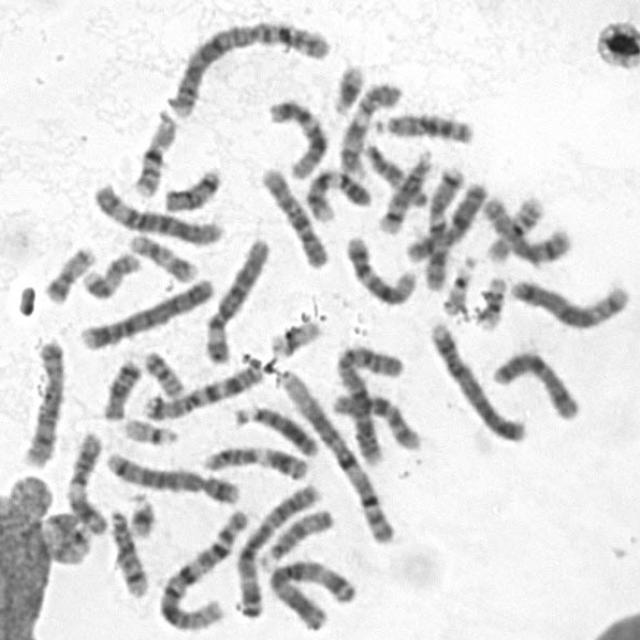A1: (270, 359, 396, 546), (150, 501, 252, 633)
A2: (161, 12, 333, 118), (328, 335, 408, 466)
A3: (228, 473, 325, 620), (260, 551, 359, 631)
B4: (423, 314, 529, 444), (73, 268, 217, 352)
B5: (99, 442, 242, 505), (504, 270, 632, 332)
C10: (252, 158, 331, 270), (326, 384, 426, 452)
C11: (60, 425, 111, 536), (196, 436, 312, 481)
C12: (338, 227, 420, 306), (261, 91, 331, 180)
C6: (86, 174, 226, 248), (198, 230, 272, 366)
C7: (137, 356, 266, 420), (418, 158, 467, 292)
C8: (15, 329, 68, 470), (477, 189, 573, 266)
C9: (332, 73, 406, 178), (298, 159, 372, 223)
D13: (229, 397, 322, 459), (366, 104, 477, 145)
D14: (373, 143, 436, 234), (102, 501, 151, 599)
D15: (252, 500, 336, 572), (356, 135, 431, 209)
E16: (481, 189, 548, 264), (126, 105, 178, 199)
E17: (120, 224, 201, 284), (74, 243, 143, 301)
E18: (94, 351, 144, 421), (157, 160, 223, 213)
F19: (263, 312, 323, 359), (469, 268, 509, 330)
F20: (36, 238, 96, 305), (136, 342, 188, 399)
G21: (326, 55, 368, 117), (121, 484, 159, 540)
G22: (436, 248, 479, 317), (115, 409, 181, 447)
X: (399, 173, 491, 264), (484, 343, 583, 422)
